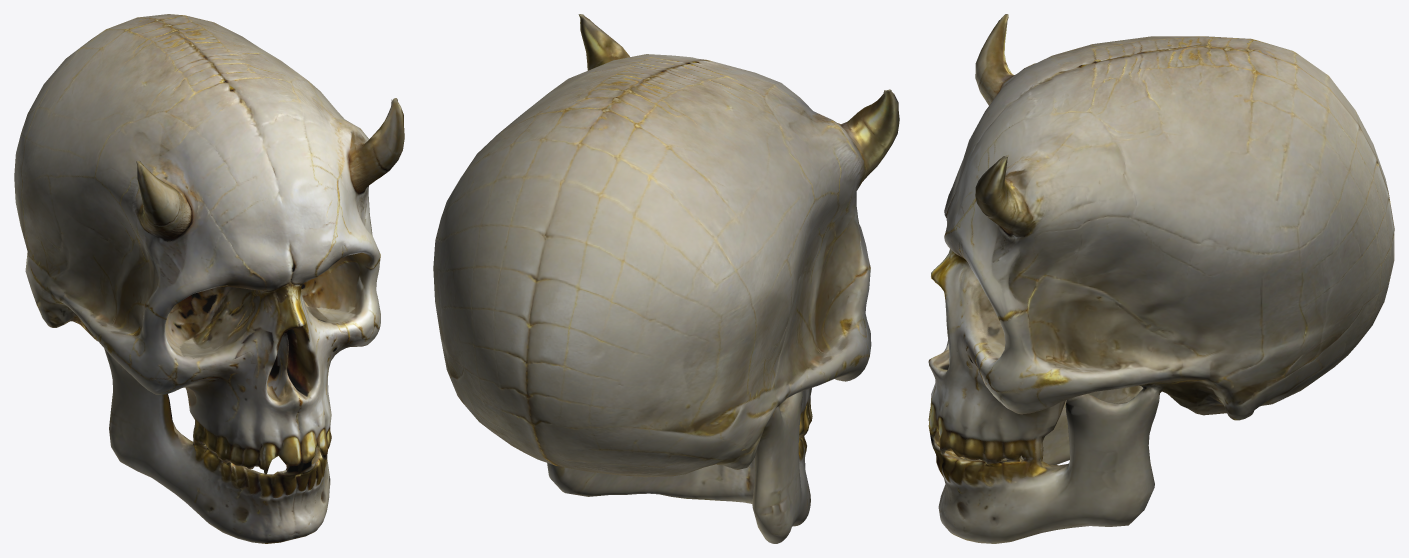
File: a_stylized_human_skul_0513173917_texture.fbx
The picture shows the model from 3 angles, left to right: view 1: azimuth 30°, elevation 25°; view 2: azimuth 150°, elevation 25°; view 3: azimuth 270°, elevation 25°; orthographic projection. The views are drawn at different scales.
Visible parts, largest first — view 1: Mesh1_Mesh1.014; view 2: Mesh1_Mesh1.014; view 3: Mesh1_Mesh1.014.
Part boxes in pixels (x1,y1,x2,y2): Mesh1_Mesh1.014: (14, 14, 404, 543); Mesh1_Mesh1.014: (433, 14, 899, 543); Mesh1_Mesh1.014: (928, 14, 1394, 543).
Size of the model in its own units: 130 by 200 by 176.
Materials: 1 (1 with a texture image).
